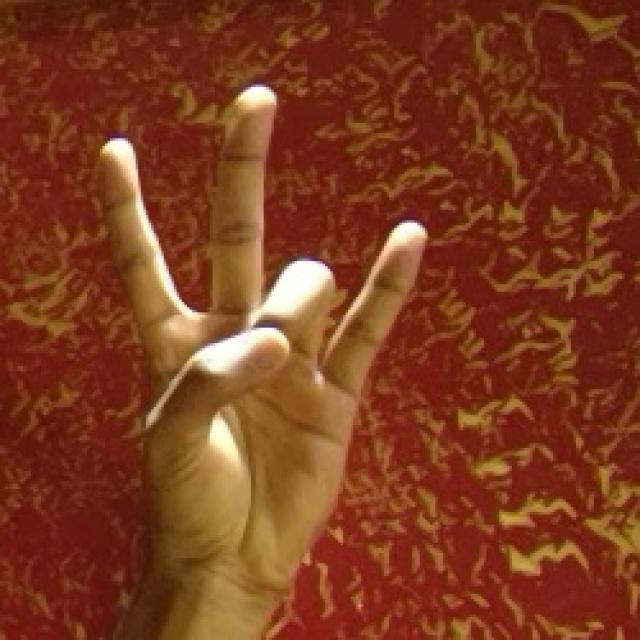Numeric-7: (101, 78, 427, 597)
